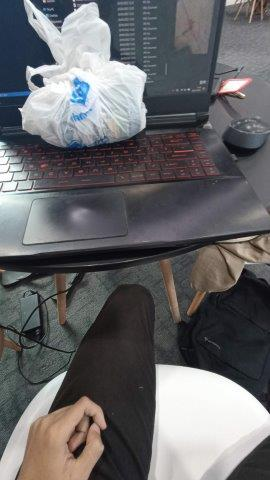plastik: (19, 1, 146, 147)
